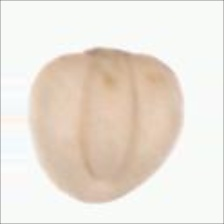L5: (78, 56, 142, 178), (48, 180, 141, 210), (55, 46, 156, 66)
L6: (24, 46, 188, 211)
